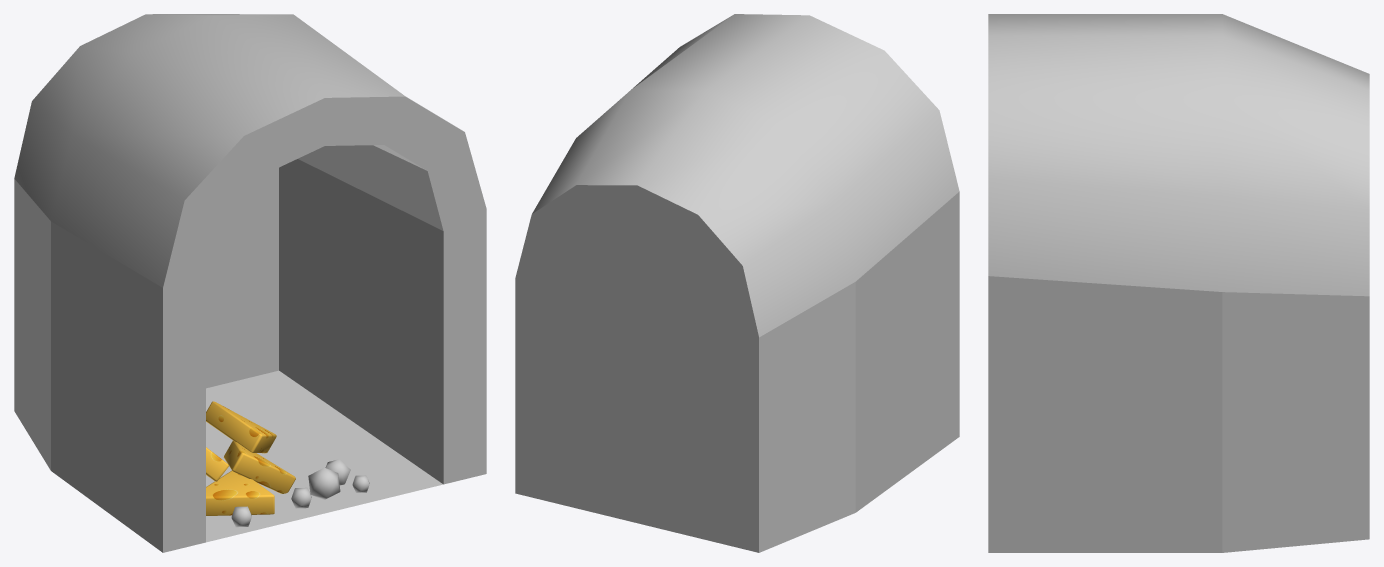
File: Lucky_House Hamster.fbx
The picture shows the model from 3 angles, left to right: view 1: azimuth 30°, elevation 25°; view 2: azimuth 150°, elevation 25°; view 3: azimuth 270°, elevation 25°; orthographic projection. The views are drawn at different scales.
Parts seen in each view (by area): view 1: House; view 2: House; view 3: House.
Part boxes in pixels (left/top/right/bottom): House: left=14, top=14, right=486, bottom=552; House: left=515, top=14, right=959, bottom=552; House: left=988, top=14, right=1369, bottom=552.
Bounding box in the file's own units: 14.08 × 17.39 × 13.76.
